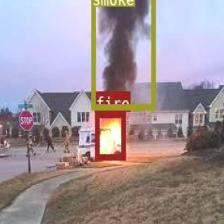fire: (94, 111, 124, 159)
smoke: (90, 0, 154, 108)
